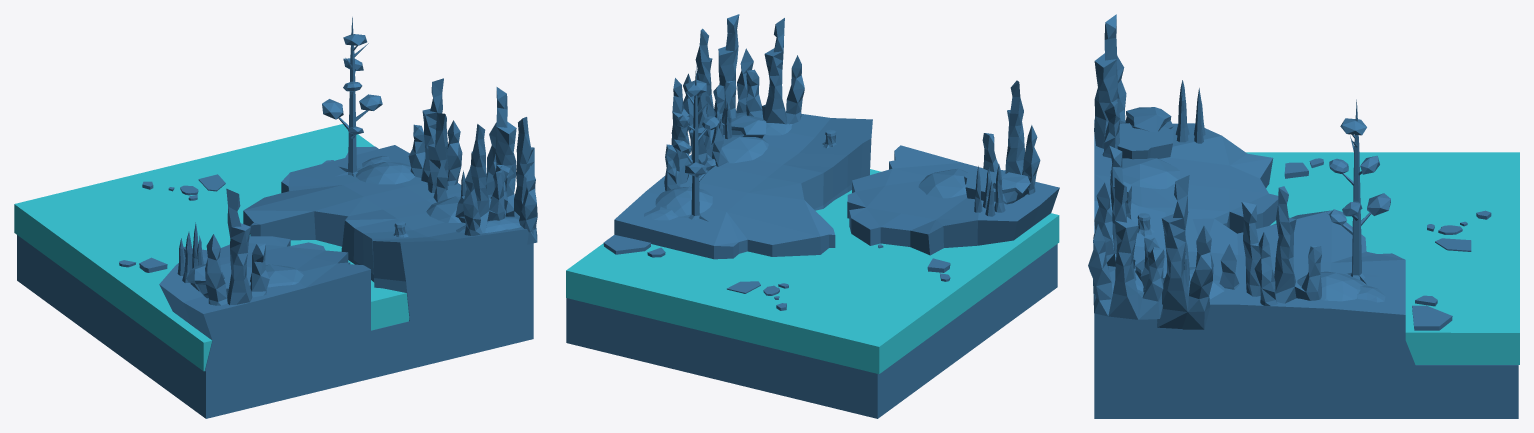
The model's file is polyperfect-ice-base.fbx.
3 views of the same model, side by side, from view 1: azimuth 30°, elevation 25°; view 2: azimuth 150°, elevation 25°; view 3: azimuth 270°, elevation 25° (orthographic). The views are drawn at different scales.
Parts seen in each view (by area): view 1: ice-world-base; view 2: ice-world-base; view 3: ice-world-base.
Boxes of the visible parts, x1,y1,x2,y2 form: ice-world-base: (14,17,537,418); ice-world-base: (566,14,1059,418); ice-world-base: (1088,14,1519,418).
Bounding box in the file's own units: 21.05 × 14.77 × 20.2.
